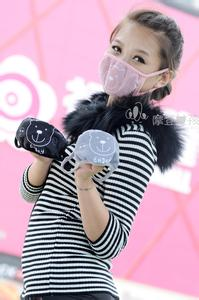face_mask: (102, 20, 159, 98)
